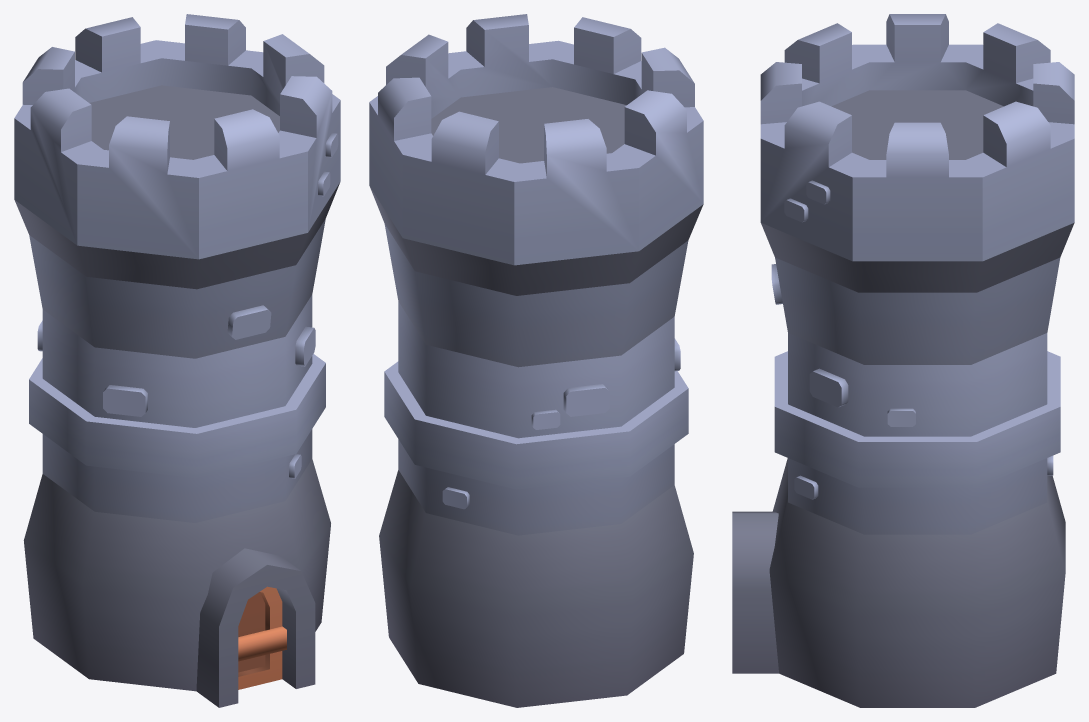
The model's file is tower-complete-small.glb.
The picture shows the model from 3 angles, left to right: view 1: azimuth 30°, elevation 25°; view 2: azimuth 150°, elevation 25°; view 3: azimuth 270°, elevation 25°; orthographic projection. The views are drawn at different scales.
Visible parts, largest first — view 1: tower-complete-small; view 2: tower-complete-small; view 3: tower-complete-small.
Part boxes in pixels (box(x1,y1,x2,y2)): tower-complete-small: box(14, 14, 340, 707); tower-complete-small: box(369, 14, 703, 707); tower-complete-small: box(732, 14, 1074, 707).
Bounding box in the file's own units: 3.35 × 6.78 × 3.66.
1 material, 1 textured.
